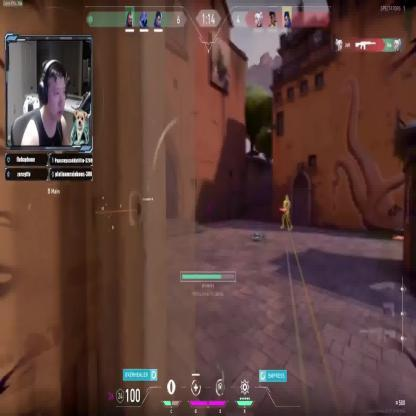enemy: (280, 194, 292, 230)
enemy_head: (285, 194, 289, 202)
